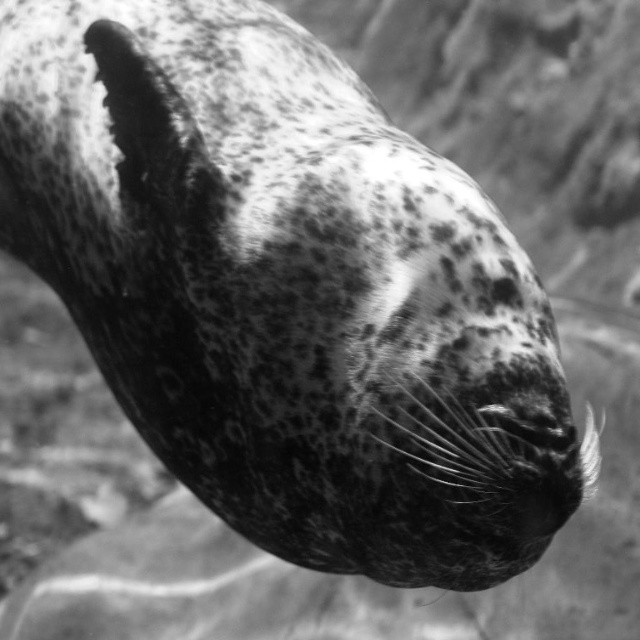Harbor seal: (0, 0, 604, 601)
